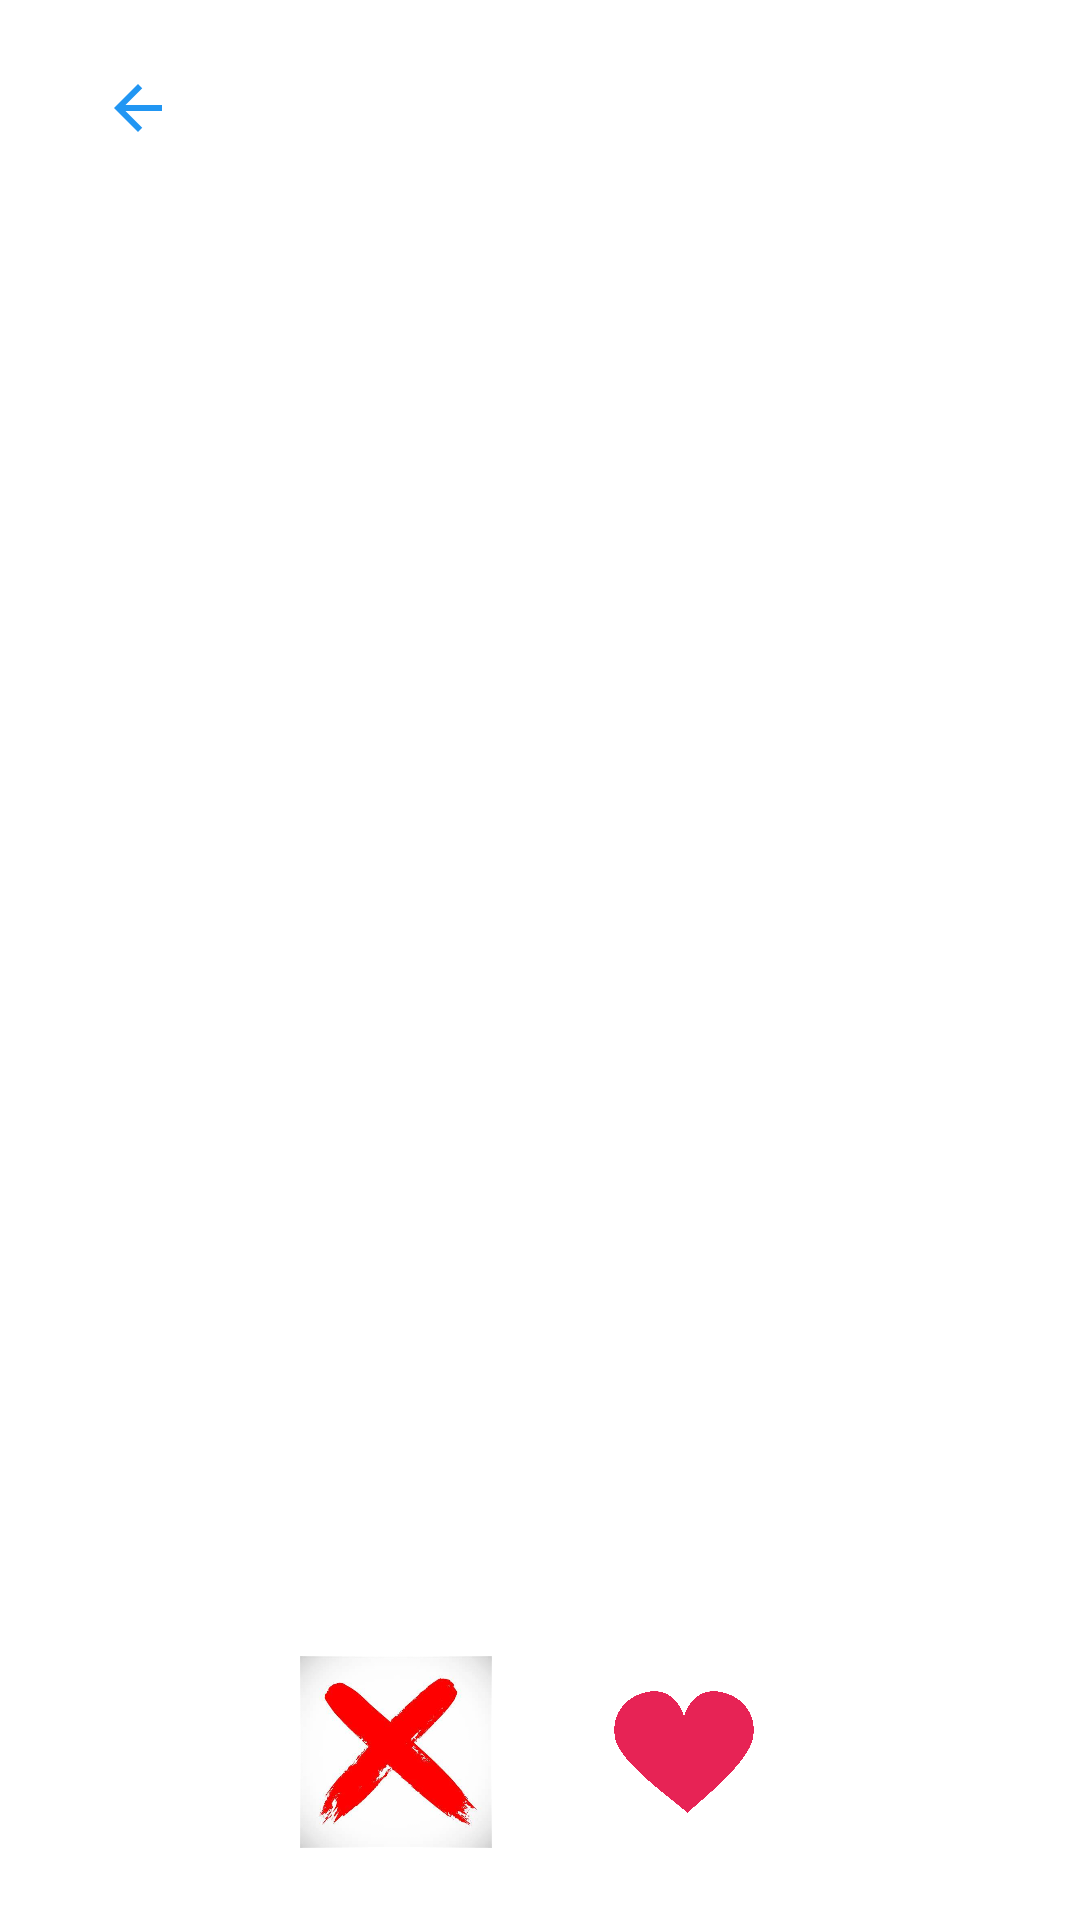

Icon click points for this 1080*1920 phone screenshot, format point (x, y):
back arrow: point (138, 108)
cross: point (396, 1752)
heart: point (684, 1752)
